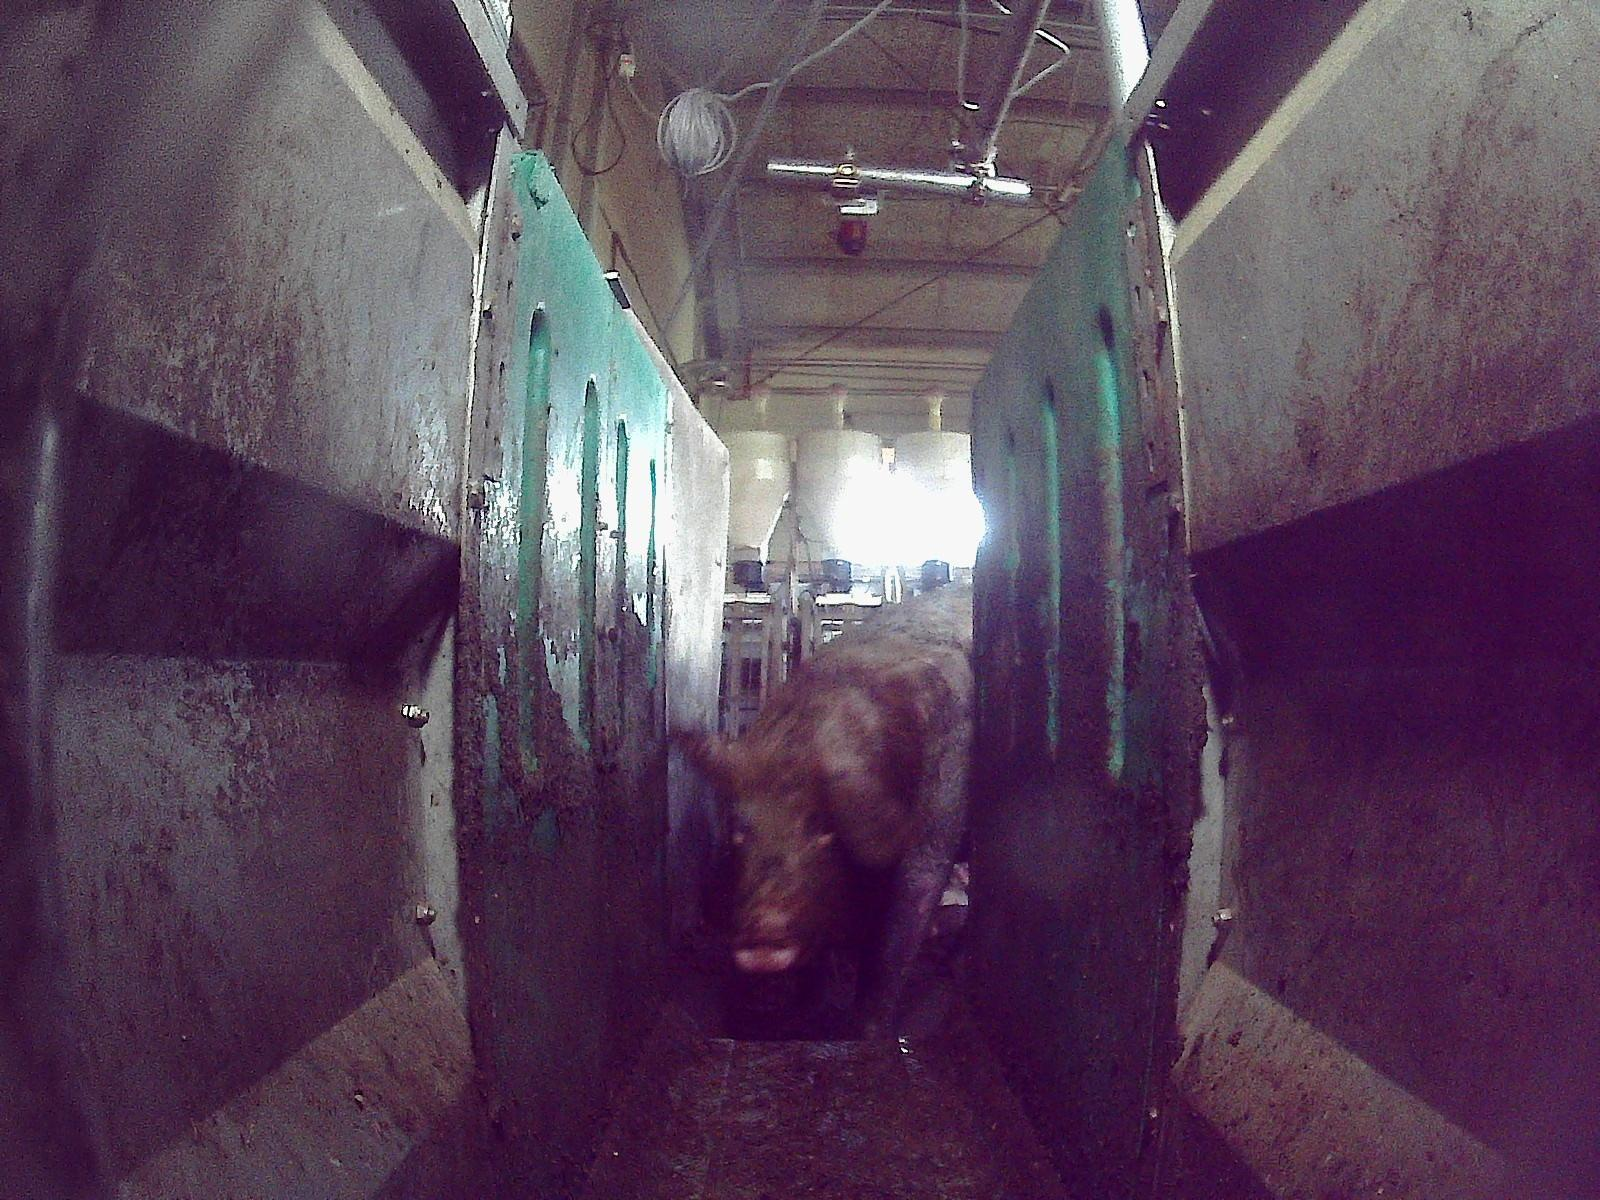Face: (721, 737, 848, 975)
